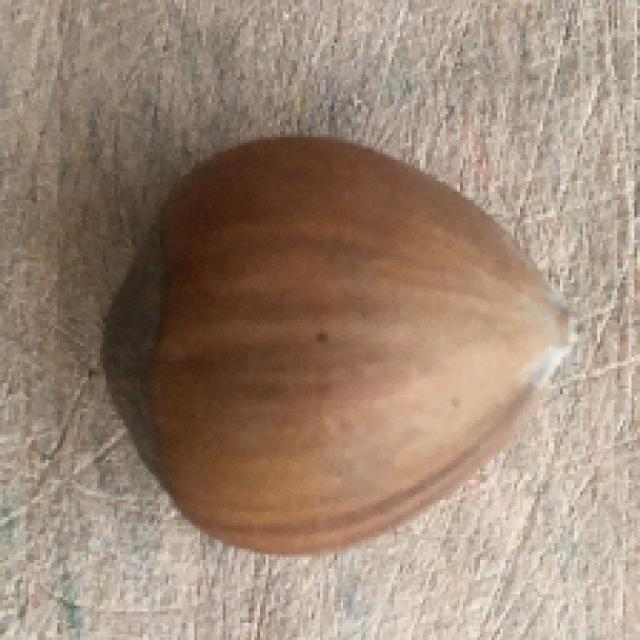DamagedHazelnut: (106, 141, 579, 557)
